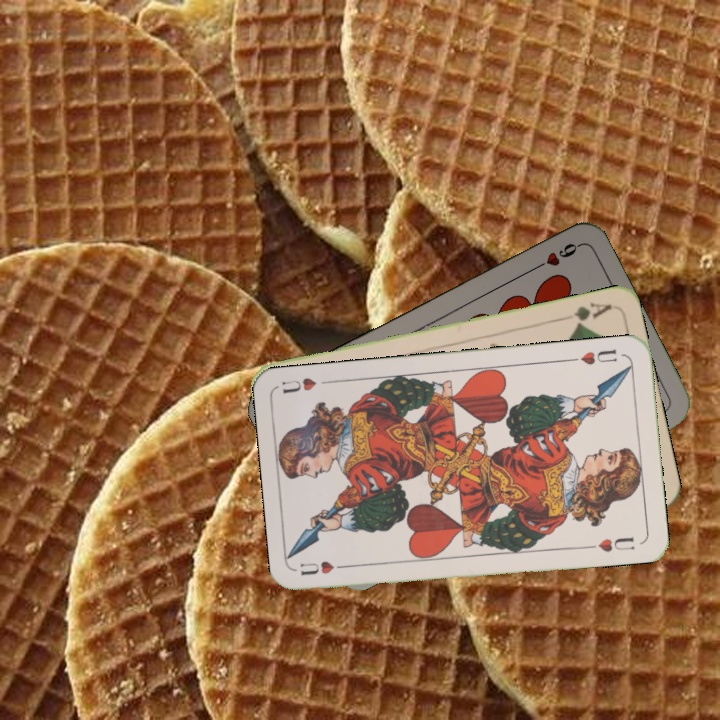GA: (556, 298, 614, 329)
H9: (527, 239, 582, 274)
HU: (296, 556, 354, 578), (566, 345, 620, 368)
